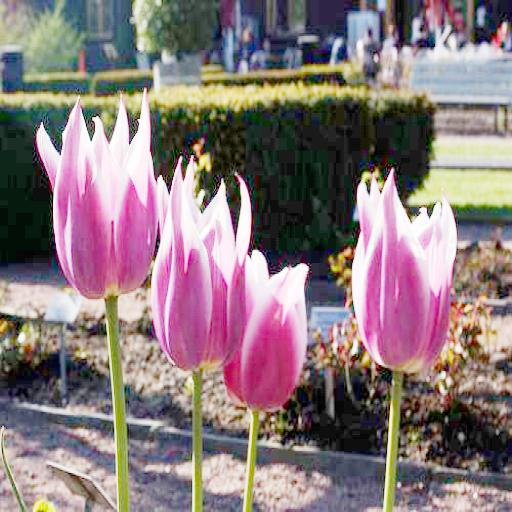tulip: (39, 91, 158, 293), (152, 158, 250, 370), (354, 170, 456, 372), (226, 252, 310, 407)
